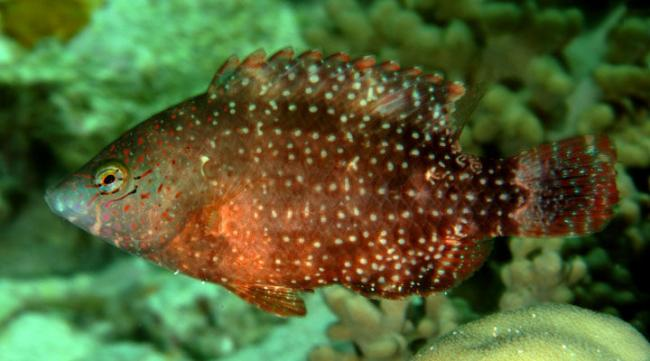fish: (43, 49, 620, 319)
